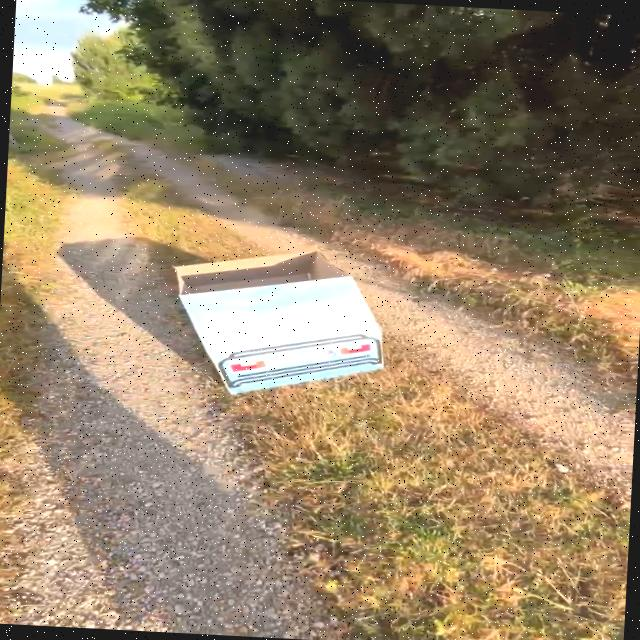blue_car: (132, 220, 414, 424)
